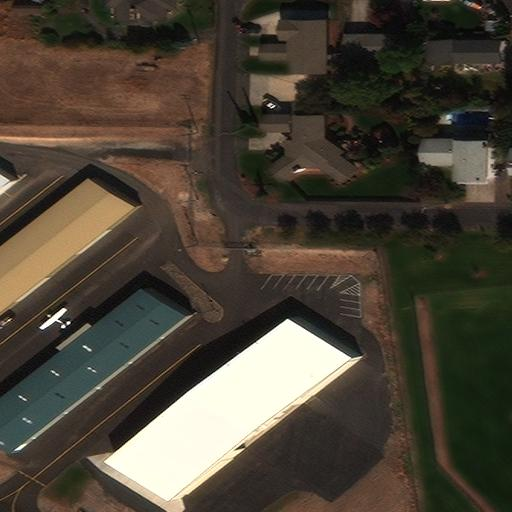Small Civil Transport: (38, 307, 68, 327)
